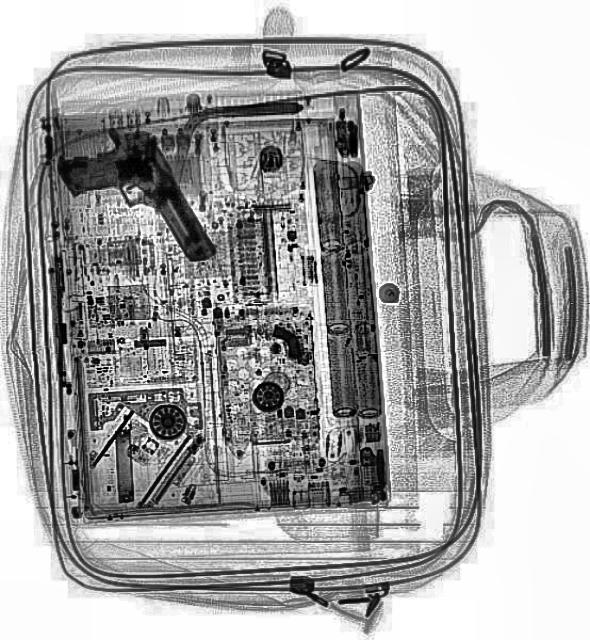Gun: (50, 111, 218, 299)
